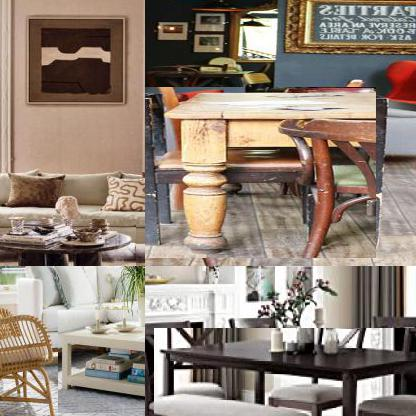table: (145, 87, 377, 259), (153, 328, 415, 415), (56, 310, 144, 415), (0, 219, 136, 265)
